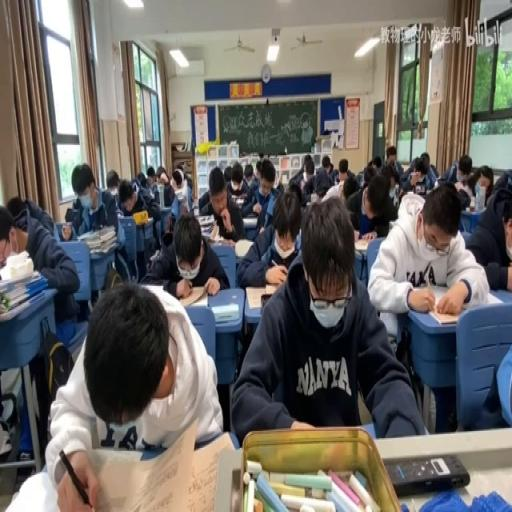calculator: (424, 280, 502, 313), (2, 468, 58, 509), (178, 283, 207, 306), (210, 300, 238, 322), (426, 309, 458, 324), (234, 236, 254, 258), (402, 191, 430, 206), (196, 215, 214, 236), (354, 234, 374, 252), (54, 222, 73, 240), (208, 233, 234, 246), (134, 213, 154, 226), (264, 283, 280, 294), (242, 214, 258, 224), (232, 195, 246, 205), (149, 248, 159, 260), (192, 202, 198, 218), (310, 192, 318, 202), (304, 199, 311, 206)
paper: (227, 192, 419, 441), (47, 279, 220, 506), (2, 194, 82, 400), (142, 210, 228, 294), (466, 174, 512, 290), (462, 328, 510, 431), (66, 160, 118, 244), (344, 166, 398, 238), (196, 164, 246, 240), (116, 176, 160, 250), (243, 156, 281, 232), (150, 169, 180, 218), (401, 151, 436, 193), (290, 156, 317, 206), (438, 154, 472, 188), (378, 145, 404, 184), (314, 156, 338, 194), (105, 168, 120, 202), (6, 194, 24, 220), (360, 164, 377, 186), (455, 188, 471, 209), (230, 168, 244, 189), (198, 189, 210, 213), (480, 168, 492, 189), (140, 185, 154, 203), (244, 164, 254, 188), (136, 170, 146, 188), (222, 165, 232, 183), (338, 159, 347, 179), (254, 158, 262, 180), (171, 174, 182, 189), (146, 165, 155, 183), (372, 155, 382, 171), (341, 184, 350, 200), (184, 174, 192, 190), (429, 162, 438, 176), (178, 162, 186, 176), (272, 172, 278, 189), (327, 162, 333, 174), (386, 154, 394, 162)
person: (384, 454, 468, 496), (259, 293, 272, 311)
